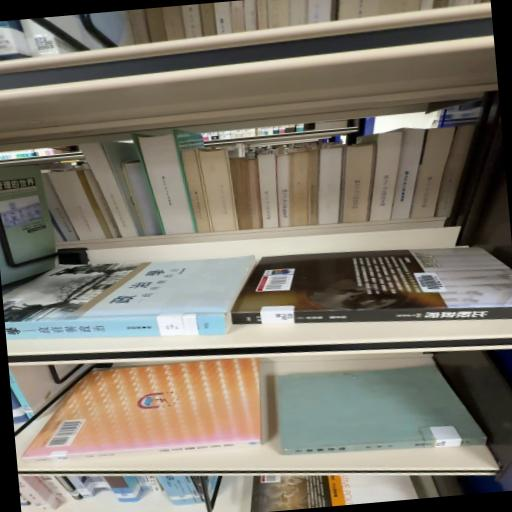flat: (24, 359, 262, 463), (3, 256, 257, 341), (233, 249, 512, 325), (277, 366, 487, 456)
